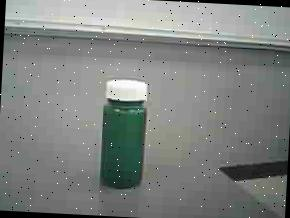Bottle C: (88, 73, 166, 198)
